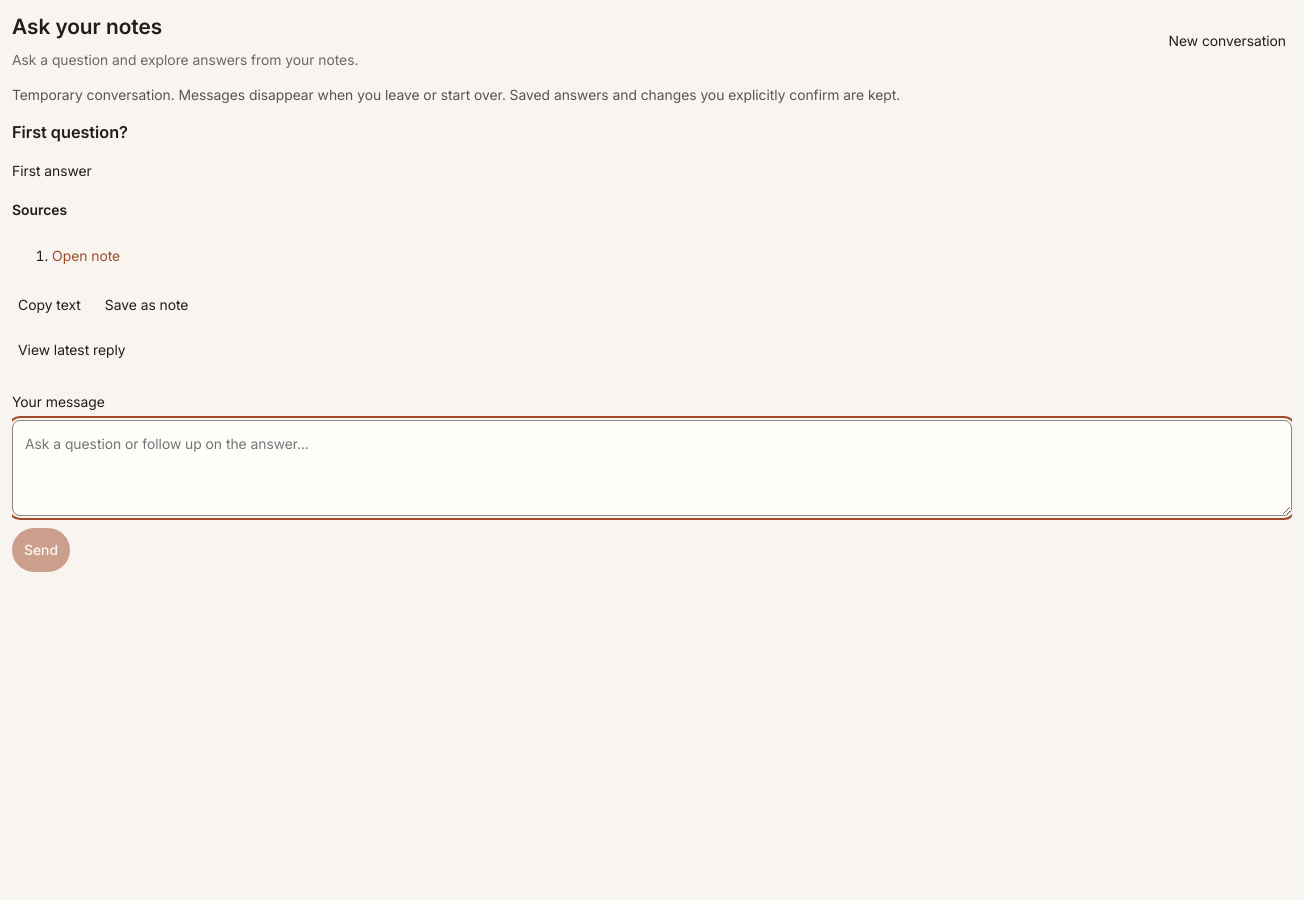
Test: adopts a first response, appends follow-ups and keeps explicit saving on its turn
Check: the text box labelled "Your message" is shown, box [12,420,1292,516]
Step 1. Click the button "Save as note" → coordinates (147, 305), box [99,294,194,316]
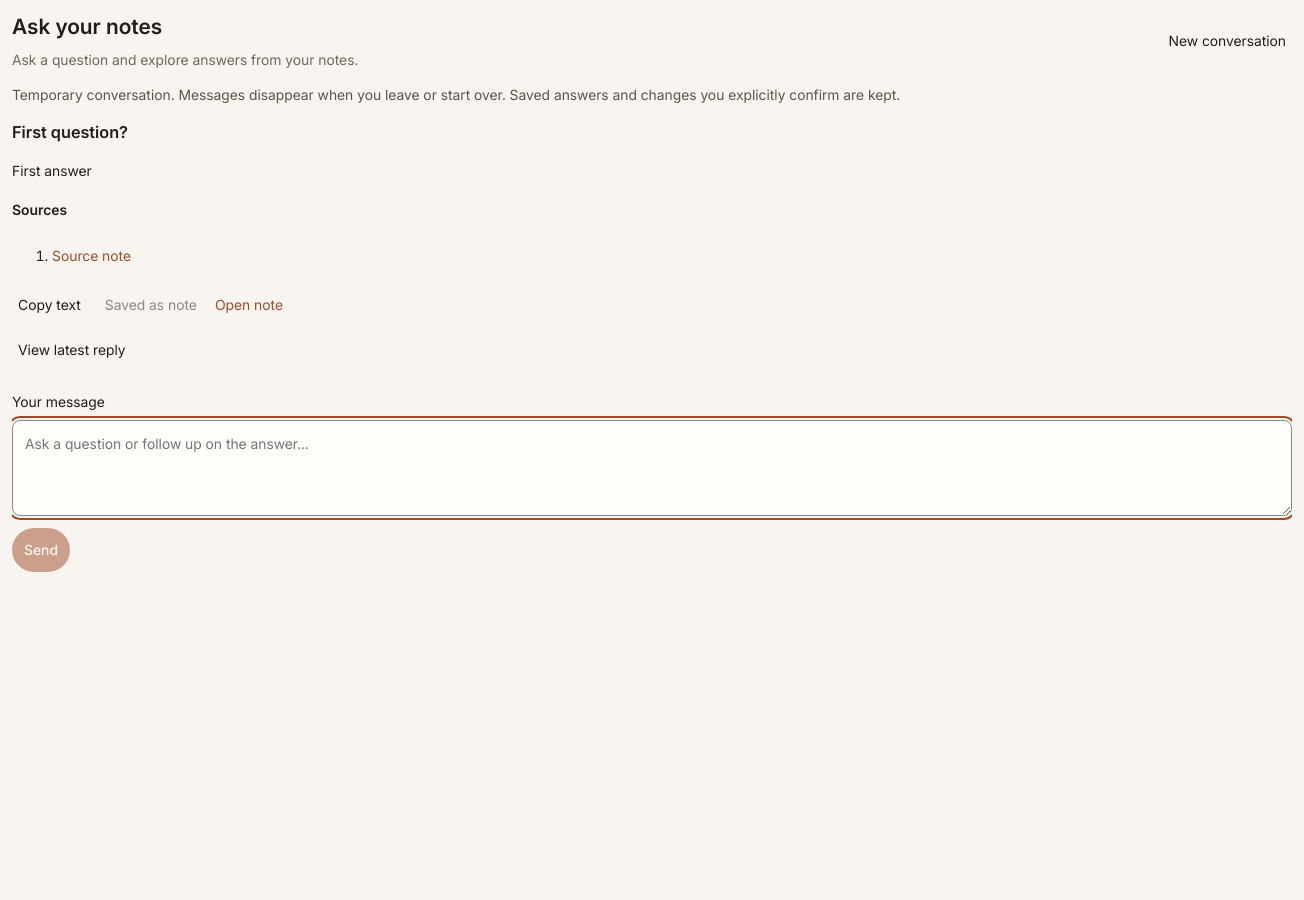
Check: the button "Saved as note" is shown, box [99,294,203,316]
Step 2. Type "What happens next?" into the text box labelled "Your message" → coordinates (652, 468), box [12,420,1292,516]
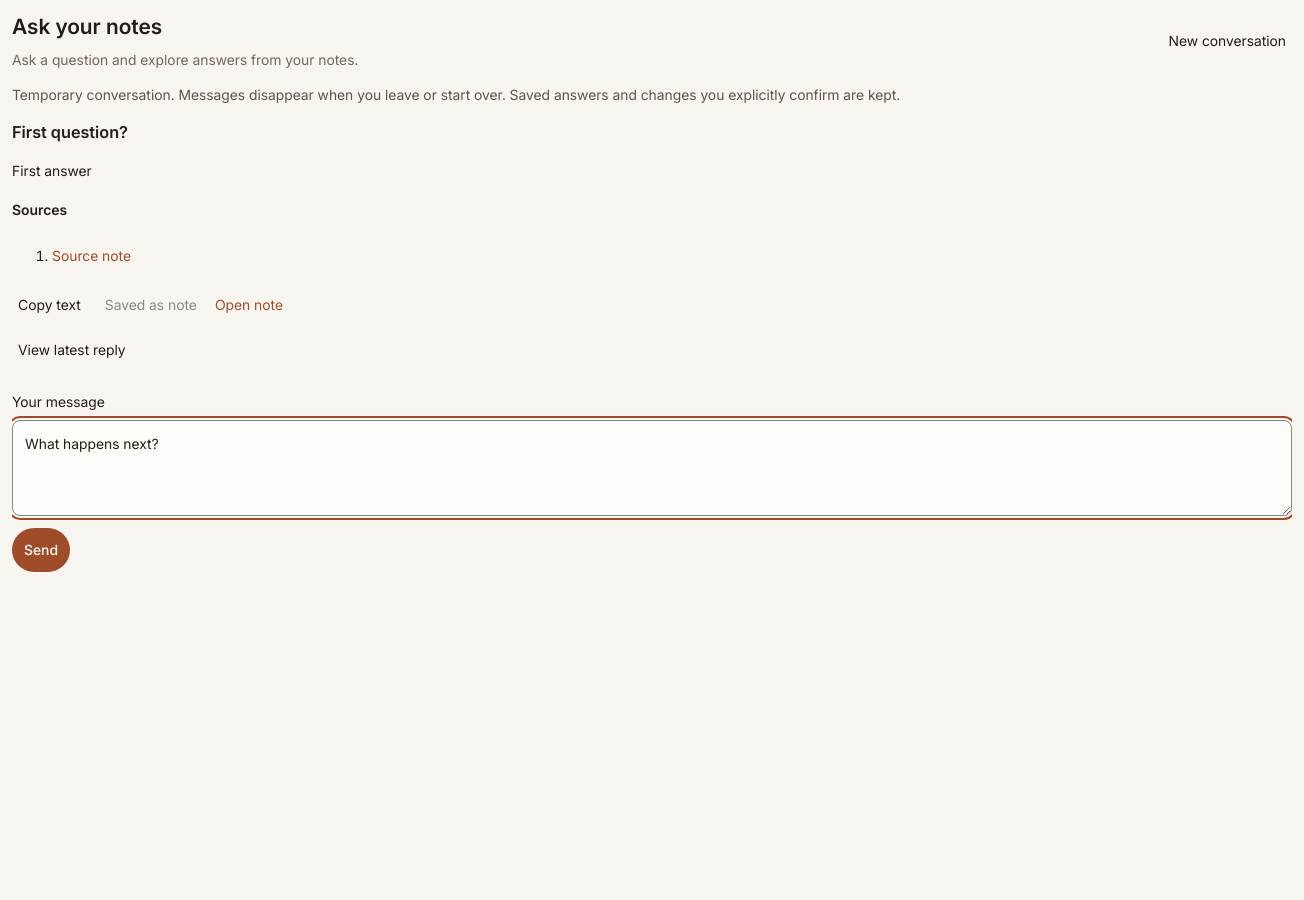
Step 3. Click the button "Send" → coordinates (41, 550), box [12,528,70,572]
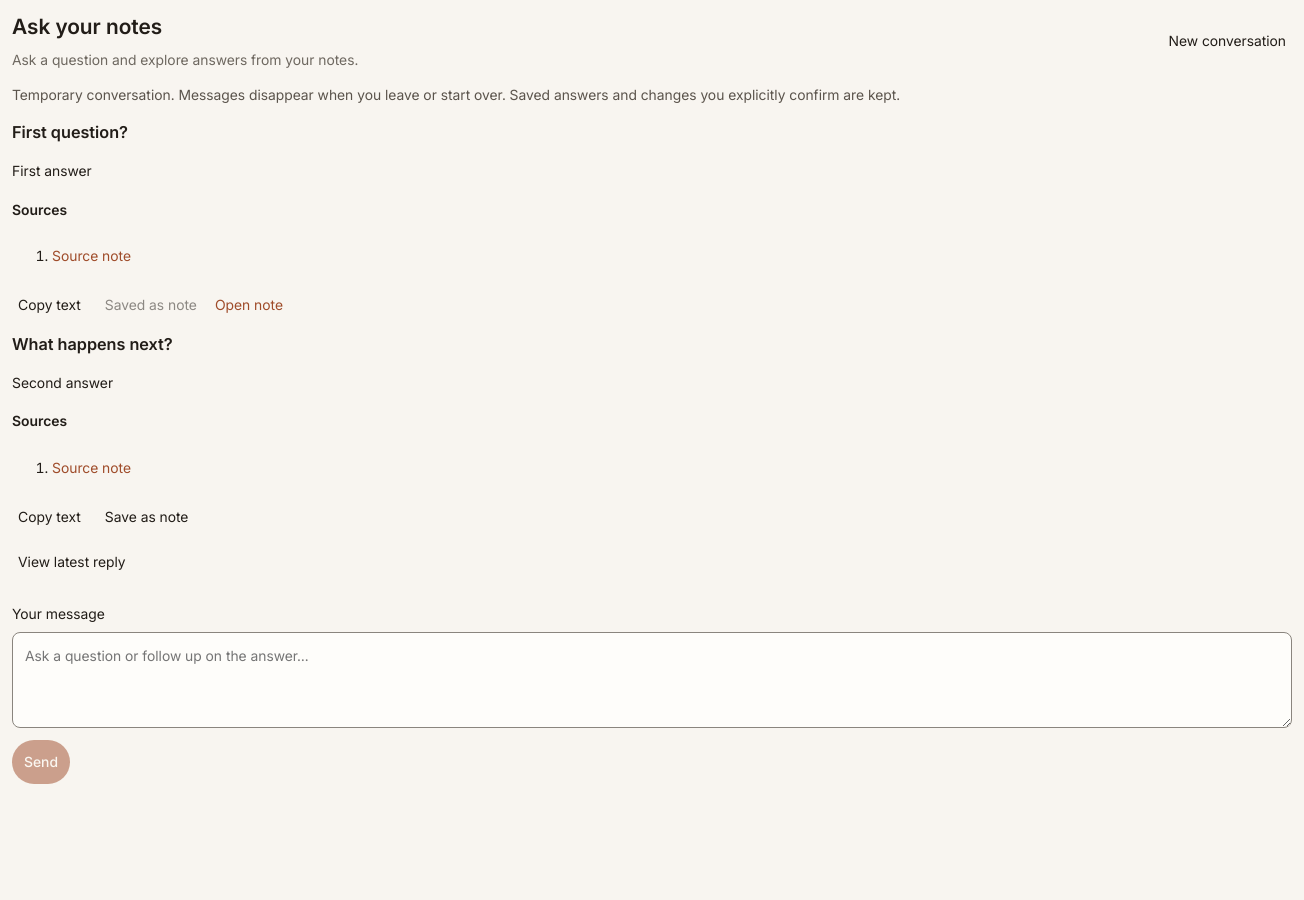
Check: the button "Saved as note" is shown, box [99,294,203,316]
Check: the text "Second answer" is shown, box [12,374,113,390]
Check: the number of buttons "Copy text" is 2, box [12,294,87,316]; [12,506,87,528]
